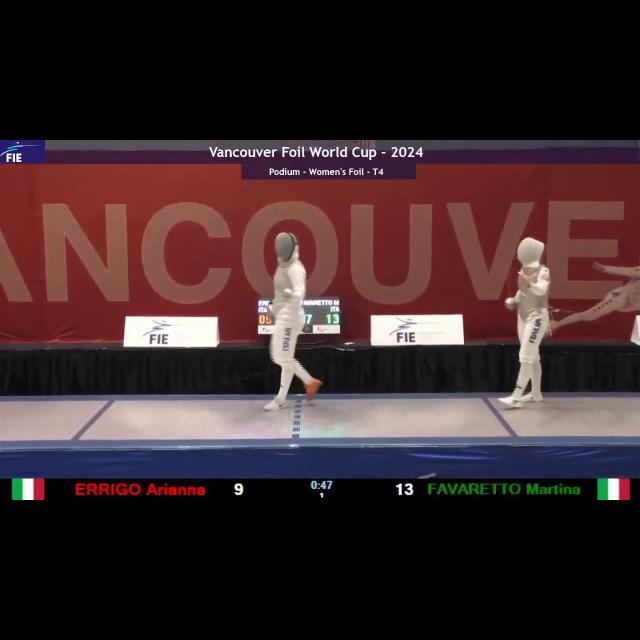blade: (503, 269, 519, 313)
